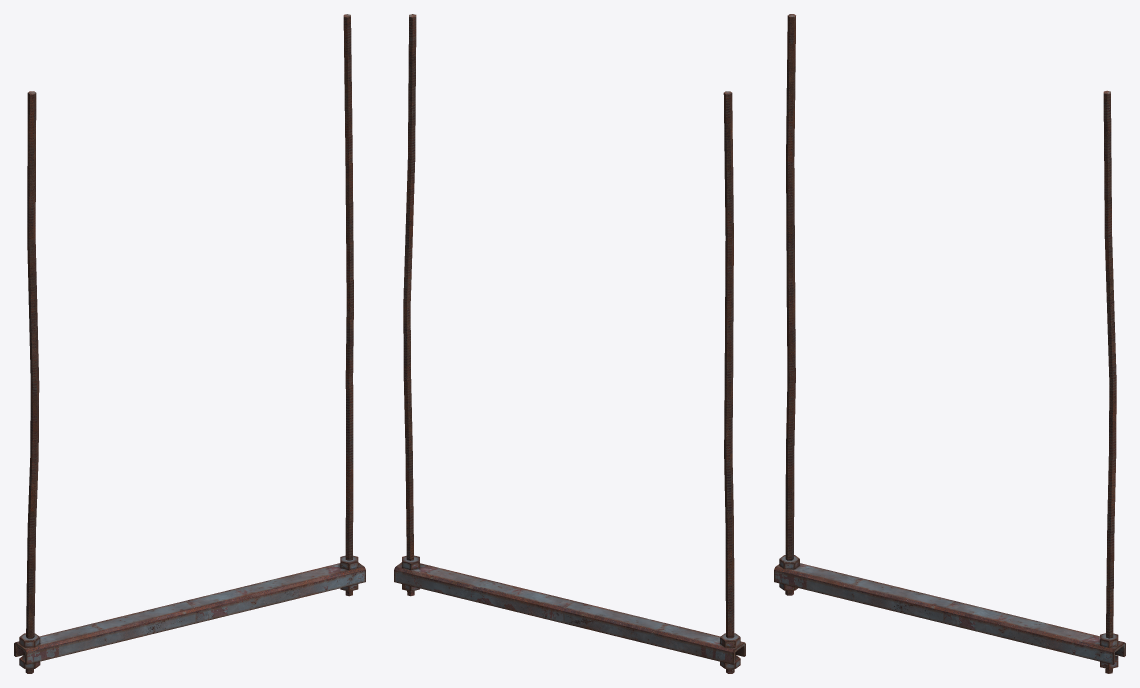
The model's file is sm_Ventilation_03_01.fbx.
The picture shows the model from 3 angles, left to right: view 1: azimuth 30°, elevation 25°; view 2: azimuth 150°, elevation 25°; view 3: azimuth 330°, elevation 25°; orthographic projection.
Parts seen in each view (by area): view 1: sm_Ventilation_03_01_LOD0; view 2: sm_Ventilation_03_01_LOD0; view 3: sm_Ventilation_03_01_LOD0.
Part boxes in pixels (<box>): sm_Ventilation_03_01_LOD0: <box>14,14,365,673</box>; sm_Ventilation_03_01_LOD0: <box>394,14,745,673</box>; sm_Ventilation_03_01_LOD0: <box>774,14,1125,673</box>.
Bounding box in the file's own units: 64.55 × 4.07 × 105.
